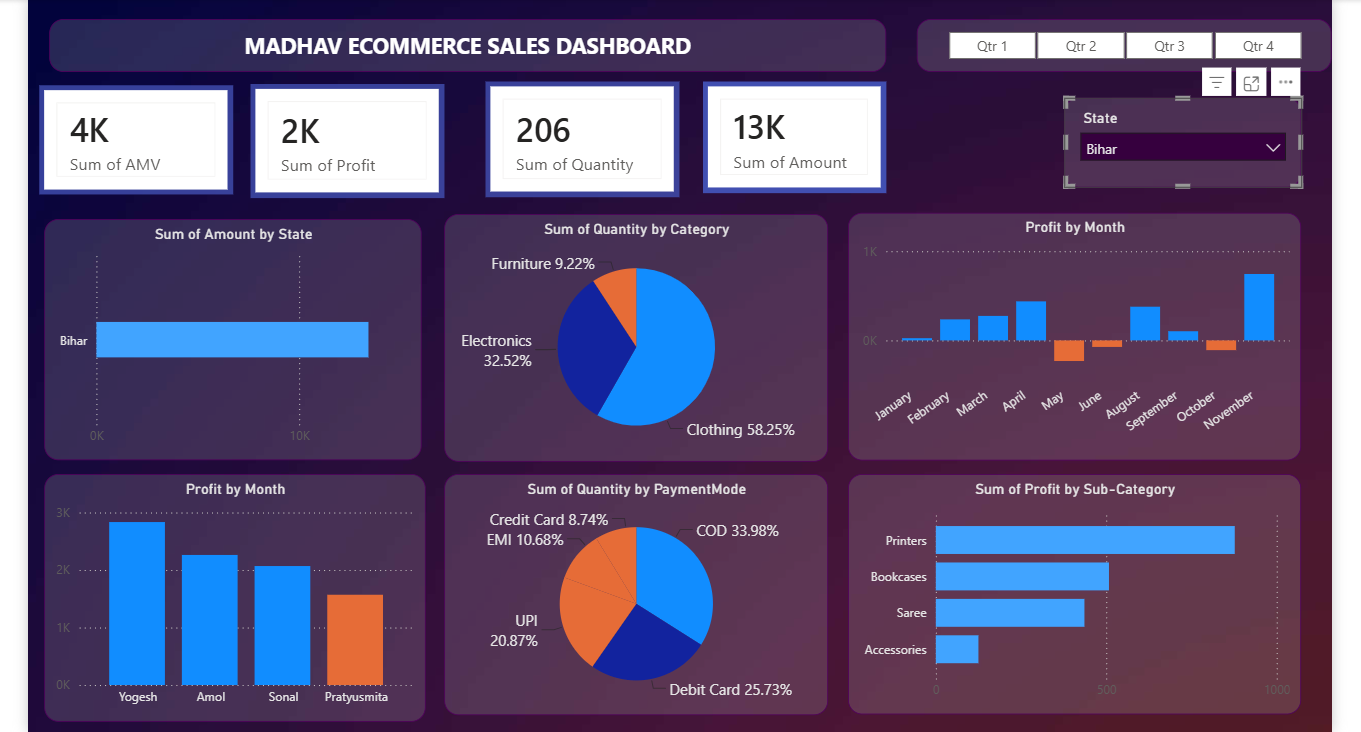

Layout of this report page (visuals, bound fields, positions):
{"tool":"powerbi","page":{"name":"Page 1","canvas":[1280,720],"ordinal":0},"visuals":[{"type":"textbox","box":[20.6,19.2,822,52.1],"z":0},{"type":"columnChart","title":"Profit by Month","fields":{"Category":["Orders.Order Date.Variation.Date Hierarchy.Month"],"Y":["Sum(Details.Profit)"]},"box":[805.5,209.9,444.6,242.9],"z":1000},{"type":"barChart","fields":{"Category":["Details.Sub-Category"],"Y":["Sum(Details.Profit)"]},"box":[805.5,466.6,444.6,236],"z":2000},{"type":"pieChart","fields":{"Category":["Details.Category"],"Y":["Sum(Details.Quantity)"]},"box":[408.6,211,376.7,242.9],"z":2001},{"type":"pieChart","fields":{"Y":["Sum(Details.Quantity)"],"Category":["Details.PaymentMode"]},"box":[408.6,466.3,376.7,236.8],"z":2002},{"type":"cardVisual","fields":{"Data":["Sum(Details.AMV)"]},"box":[11,85.1,190.7,107],"z":2003},{"type":"cardVisual","fields":{"Data":["Sum(Details.Profit)"]},"box":[218.4,83.4,190.2,111.7],"z":2004},{"type":"cardVisual","fields":{"Data":["Sum(Details.Quantity)"]},"box":[448.7,81,190.7,113.9],"z":2005},{"type":"cardVisual","fields":{"Data":["Sum(Details.Amount)"]},"box":[662.8,81,179.8,109.8],"z":2006},{"type":"barChart","fields":{"Category":["Orders.State"],"Y":["Sum(Details.Amount)"]},"box":[16,216,370.6,236.8],"z":2007},{"type":"columnChart","title":"Profit by Month","fields":{"Category":["Orders.CustomerName"],"Y":["Sum(Details.Amount)"]},"box":[16,466.3,374.2,242.9],"z":2008},{"type":"slicer","fields":{"Values":["Orders.Order Date.Variation.Date Hierarchy.Quarter"]},"box":[872.7,19.2,407.5,52.1],"z":2009},{"type":"slicer","fields":{"Values":["Orders.State"]},"box":[1016.8,96.1,233.3,87.8],"z":2010}]}

Visuals, with their boxes on the page's 1280x720 design canvas (x1, y1, x2, y2). These are canvas units, not pixel positions in the 1361x732 screenshot, which may show the page scaled, cropped or inside an application window:
textbox: 21 19 843 71
"Profit by Month" columnChart: 806 210 1250 453
barChart - Details.Sub-Category x Sum(Details.Profit): 806 467 1250 703
pieChart - Details.Category x Sum(Details.Quantity): 409 211 785 454
pieChart - Sum(Details.Quantity) x Details.PaymentMode: 409 466 785 703
cardVisual - Sum(Details.AMV): 11 85 202 192
cardVisual - Sum(Details.Profit): 218 83 409 195
cardVisual - Sum(Details.Quantity): 449 81 639 195
cardVisual - Sum(Details.Amount): 663 81 843 191
barChart - Orders.State x Sum(Details.Amount): 16 216 387 453
"Profit by Month" columnChart: 16 466 390 709
slicer - Orders.Order Date.Variation.Date Hierarchy.Quarter: 873 19 1280 71
slicer - Orders.State: 1017 96 1250 184
